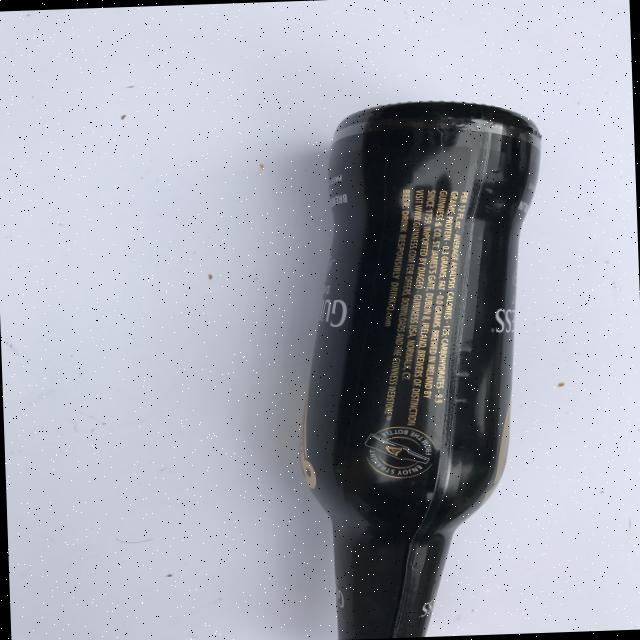glass: (286, 96, 558, 640)
